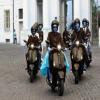motorcycles: (48, 43, 68, 95), (69, 41, 87, 83), (27, 42, 40, 82)
